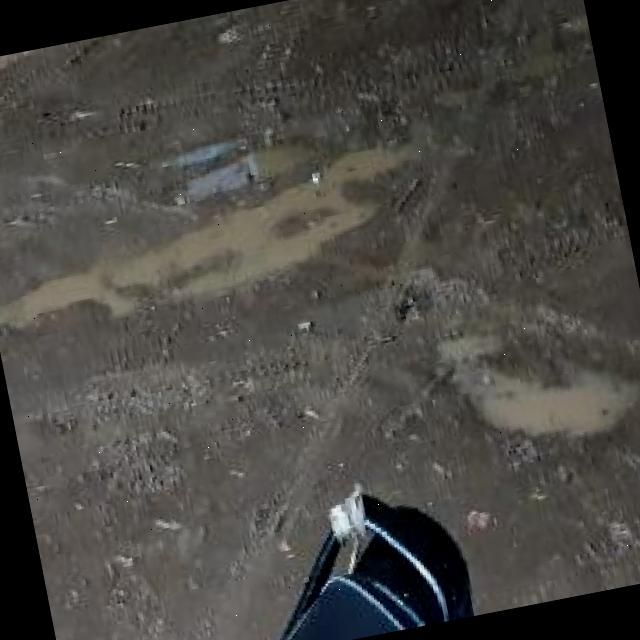stagnation: (0, 123, 452, 375), (407, 290, 640, 484)
